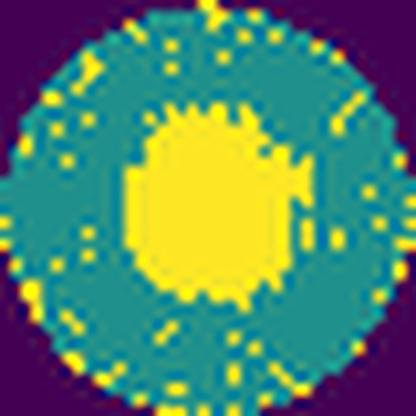Center: (122, 101, 316, 316)
